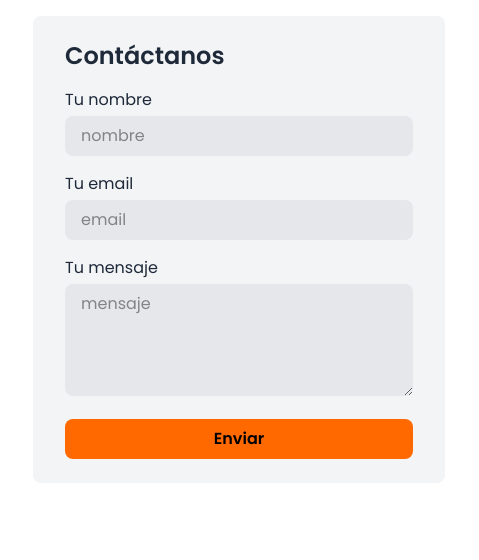
Contact › valida el formato del email
Type "Ana" into the field labelled "Tu nombre" at (239, 136), box [65,116,413,156]
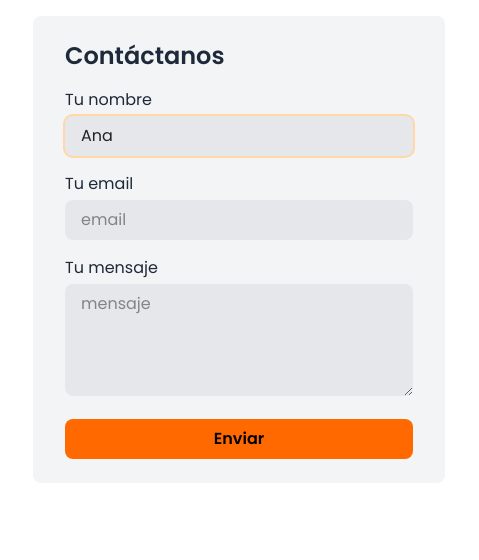
Type "no-es-un-email" into the field labelled "Tu email" at (239, 220), box [65,200,413,240]
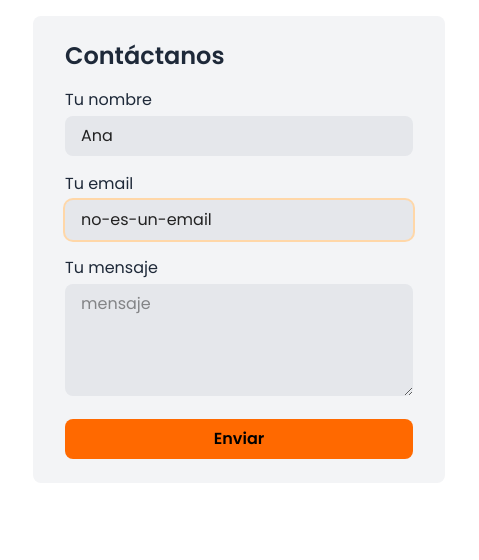
Type "Hola" into the text box labelled "Tu mensaje" at (239, 340), box [65,284,413,396]
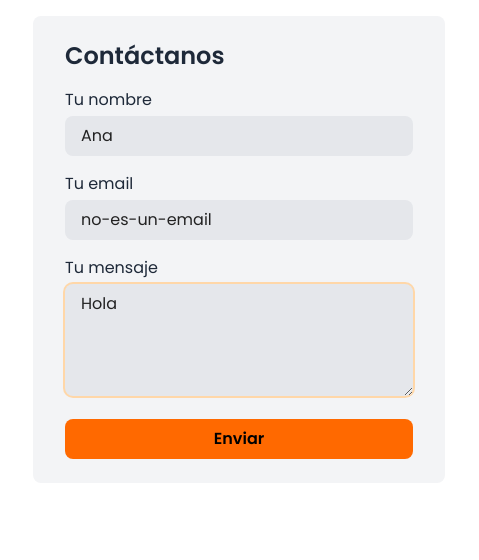
Click the button "Enviar" at (239, 439), box [65,419,413,459]
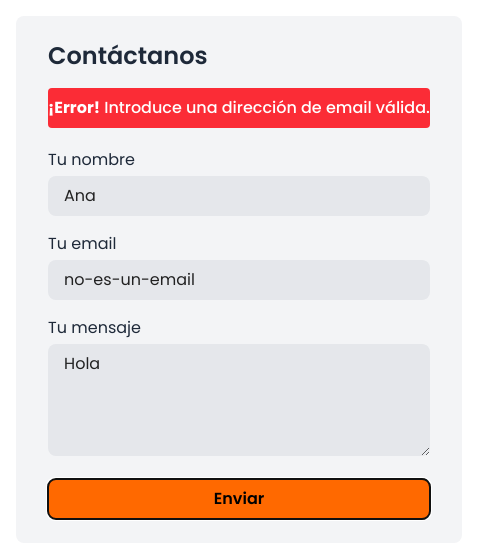
Check: the message shows "Introduce una dirección de email válida.", box [104,96,430,119]
